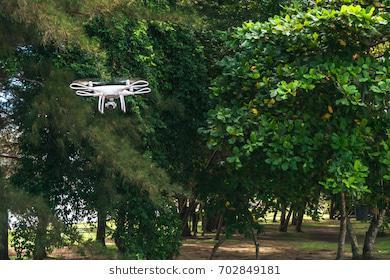drone: (66, 64, 160, 124)
